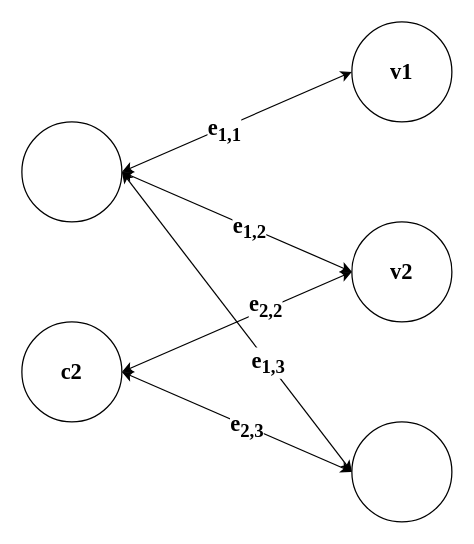
Image size: 474x544. Some labels were removed from this diagram. Each missing label, with the centre of its shape:
c1: point 71,171
v3: point 401,471
